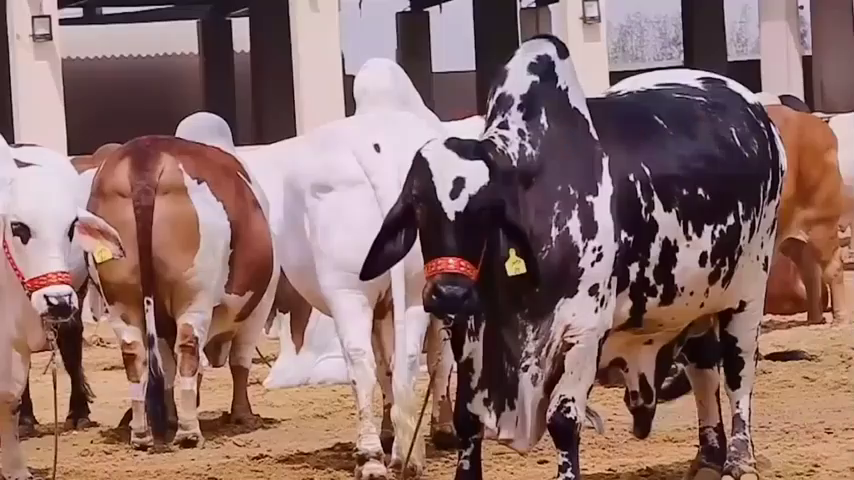bo: (362, 34, 771, 479), (259, 101, 446, 476), (86, 130, 280, 449), (1, 139, 124, 453), (743, 85, 854, 339)
